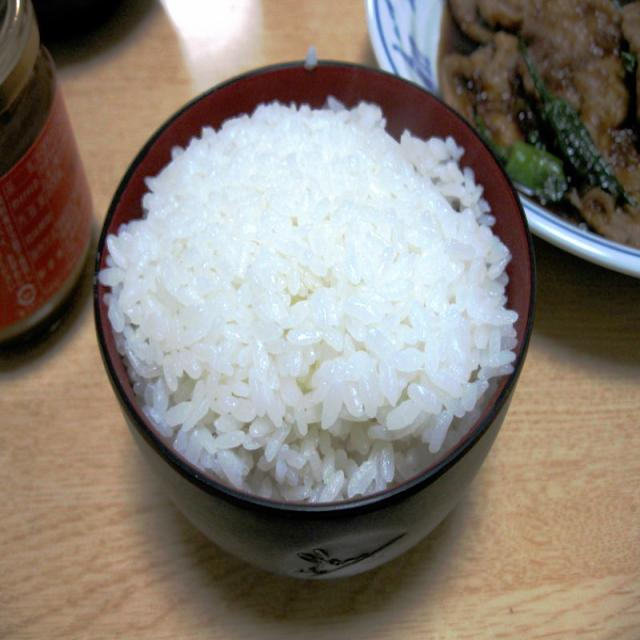rice: (99, 97, 519, 508)
